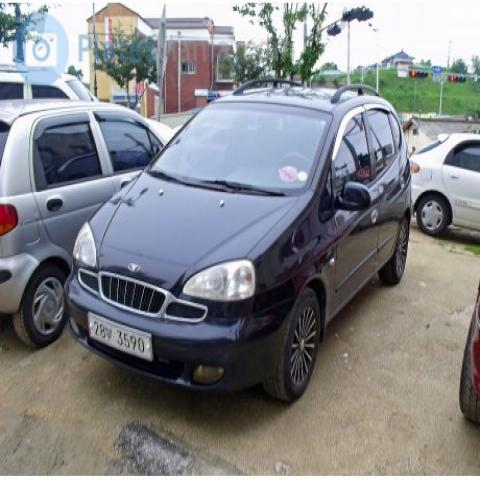LP: (78, 300, 160, 368)
